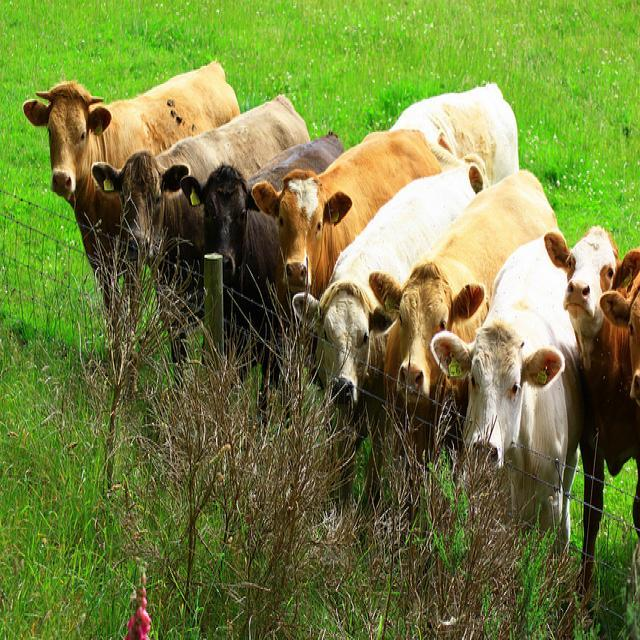cow: (20, 60, 239, 307), (432, 223, 579, 553), (367, 167, 559, 413), (289, 162, 471, 411), (182, 133, 340, 399), (92, 89, 309, 260), (248, 126, 443, 315), (545, 226, 639, 601), (388, 81, 516, 192), (597, 289, 639, 397)
